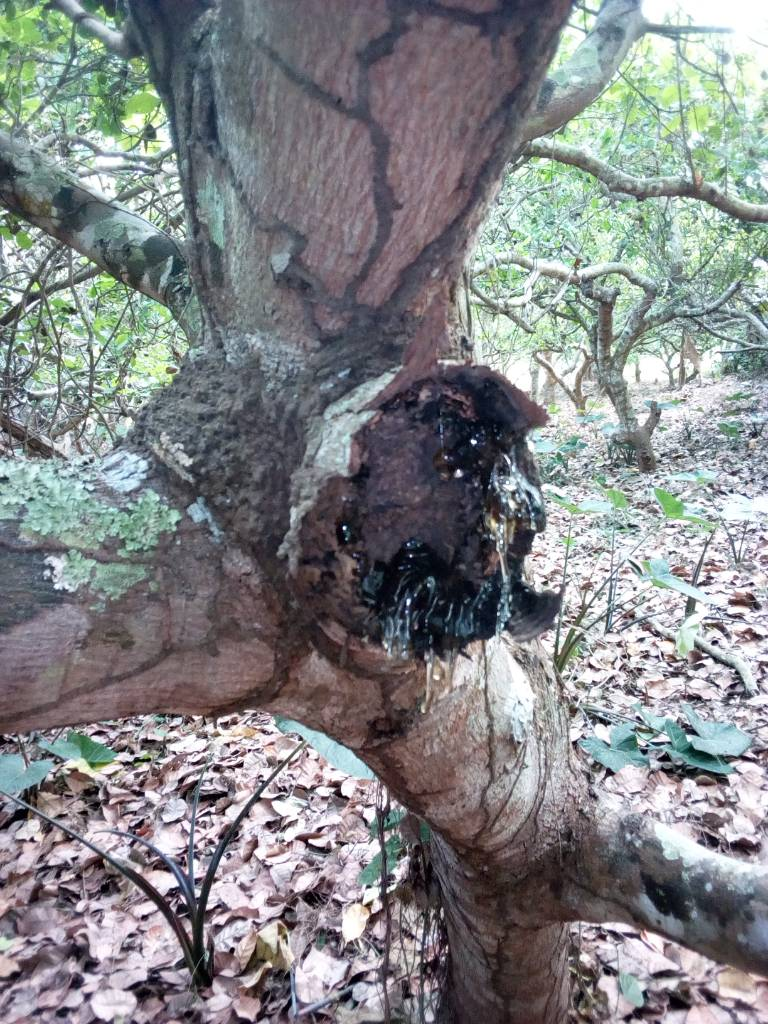Termites: (358, 7, 524, 305), (152, 361, 308, 538), (215, 152, 319, 317), (243, 583, 327, 692), (330, 307, 408, 367)
